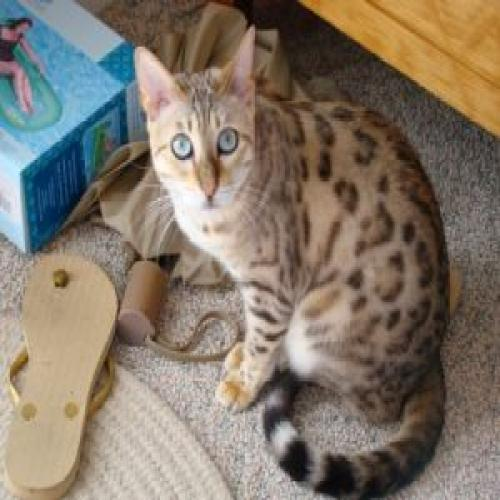bengal: (123, 31, 279, 214)
